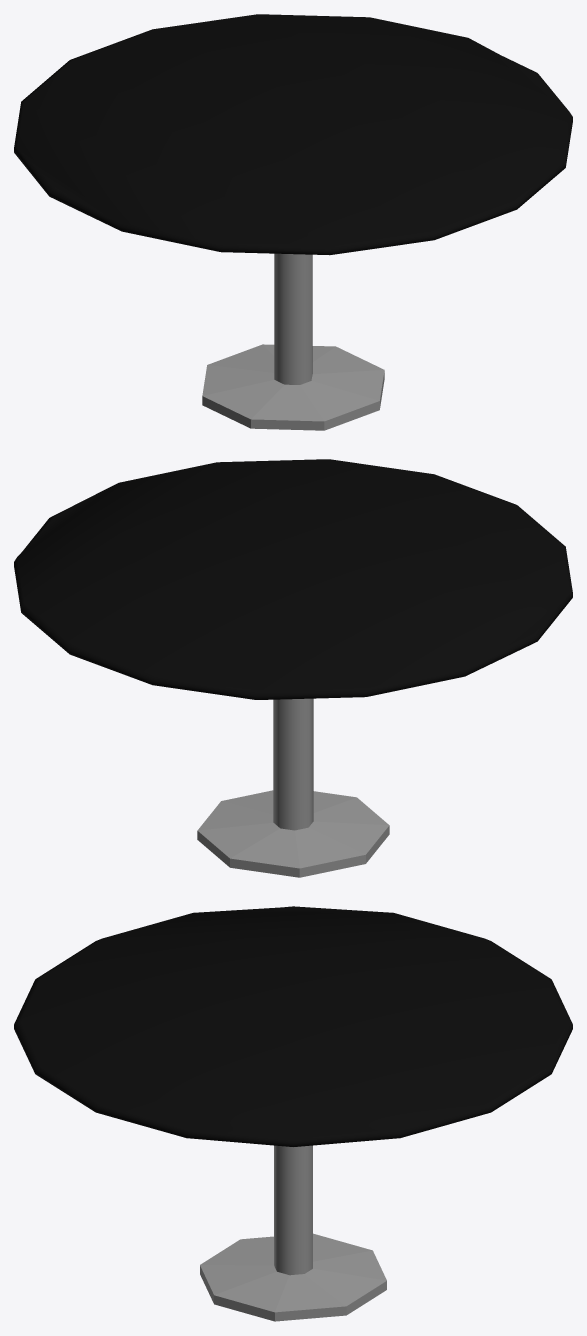
Rendered from RoundTableOutdoor.FBX.
The picture shows the model from 3 angles, top to bottom: view 1: azimuth 30°, elevation 25°; view 2: azimuth 150°, elevation 25°; view 3: azimuth 270°, elevation 25°; orthographic projection.
Visible parts, largest first — view 1: Cylinder103; view 2: Cylinder103; view 3: Cylinder103.
Part boxes in pixels (left/top/right/bottom): Cylinder103: left=14, top=14, right=572, bottom=430; Cylinder103: left=14, top=459, right=572, bottom=877; Cylinder103: left=14, top=906, right=572, bottom=1321.
Bounding box in the file's own units: 25.47 × 13.07 × 25.47.
Materials: 2 (1 with a texture image).
